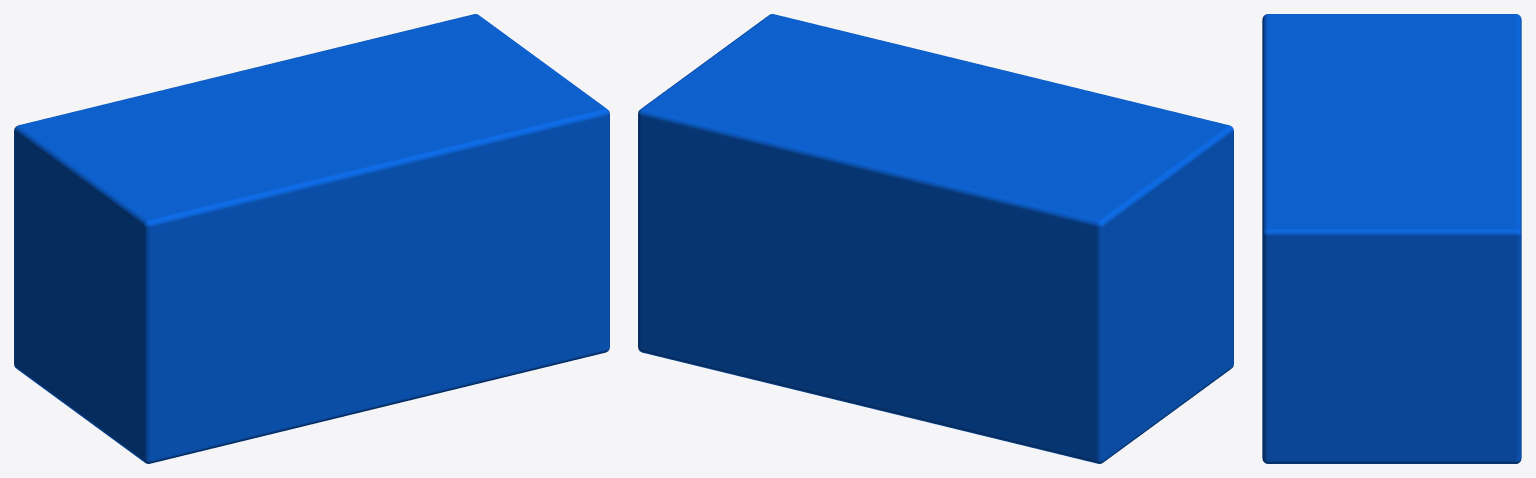
File: base1x2BlockSRound.glb
The picture shows the model from 3 angles, left to right: view 1: azimuth 30°, elevation 25°; view 2: azimuth 150°, elevation 25°; view 3: azimuth 270°, elevation 25°; orthographic projection. The views are drawn at different scales.
Visible parts, largest first — view 1: Cube; view 2: Cube; view 3: Cube.
Boxes of the visible parts, x1,y1,x2,y2 form: Cube: (14, 14, 609, 463); Cube: (638, 14, 1233, 463); Cube: (1262, 14, 1521, 463).
Size of the model in its own units: 4 by 2 by 2.
